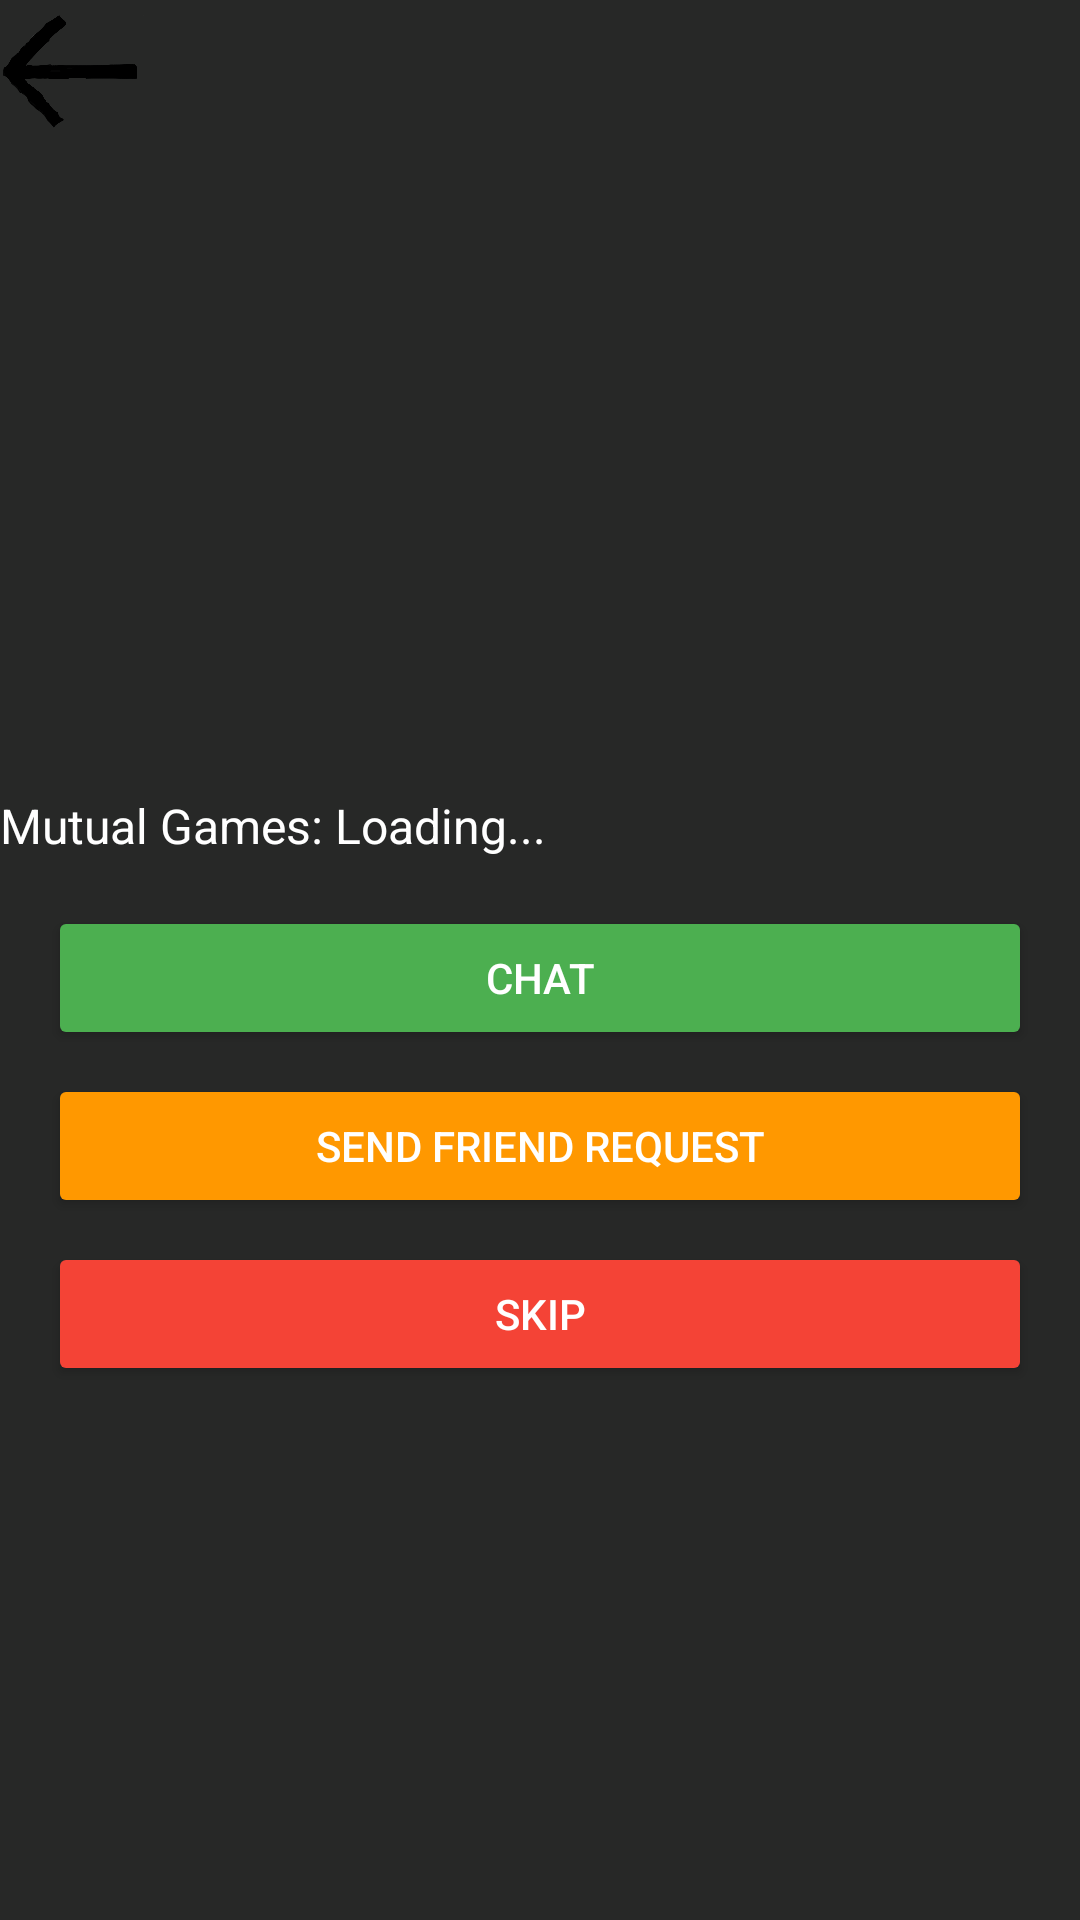

Icon bounding boxes for this 1080x1920 phone screenshot, format box=[x1, y1, x2, y2]:
Go Back: box=[3, 16, 137, 127]
